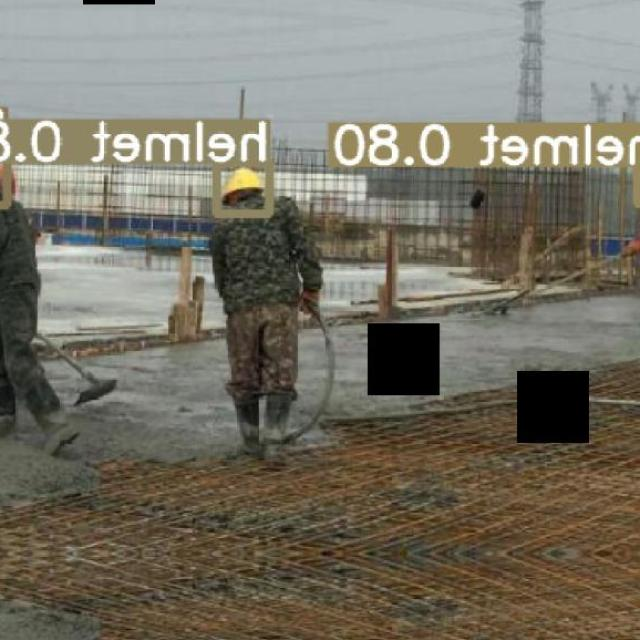helmet: (222, 166, 264, 202)
